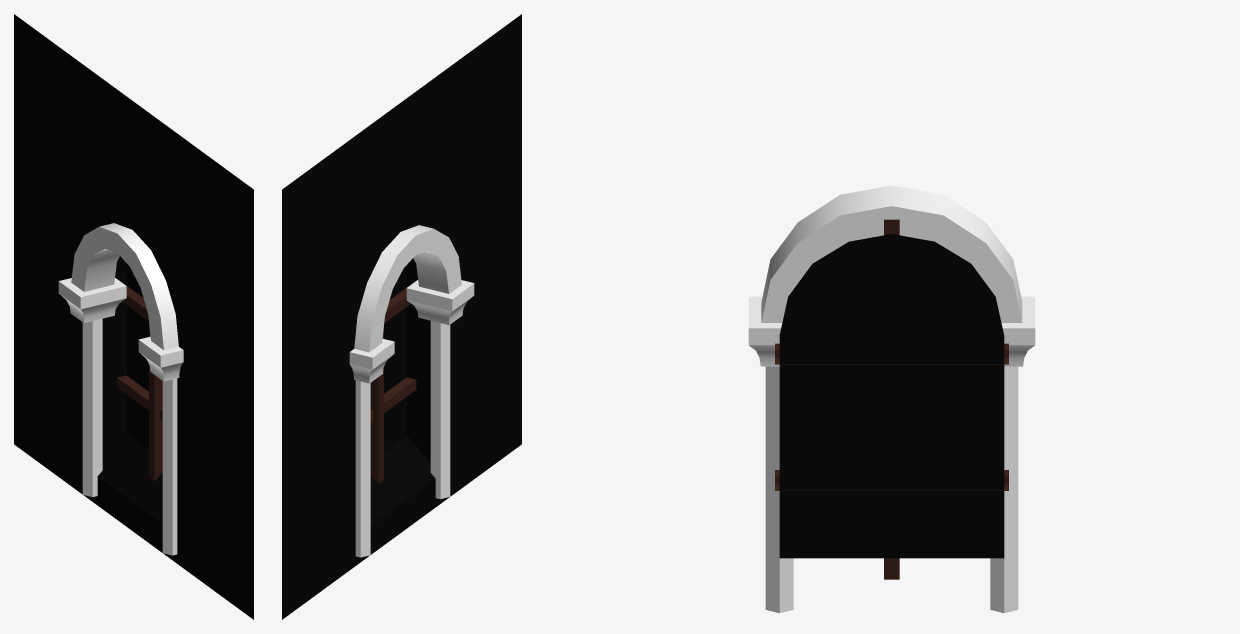
Rendered from standard_window_19.FBX.
The picture shows the model from 3 angles, left to right: view 1: azimuth 30°, elevation 25°; view 2: azimuth 150°, elevation 25°; view 3: azimuth 270°, elevation 25°; orthographic projection. The views are drawn at different scales.
Parts seen in each view (by area): view 1: standard_window_19; view 2: standard_window_19; view 3: standard_window_19.
Boxes of the visible parts, x1=… form: standard_window_19: x1=14, y1=14, x2=253, y2=619; standard_window_19: x1=282, y1=14, x2=521, y2=619; standard_window_19: x1=748, y1=185, x2=1035, y2=613.
Bounding box in the file's own units: 40.18 × 290 × 293.
